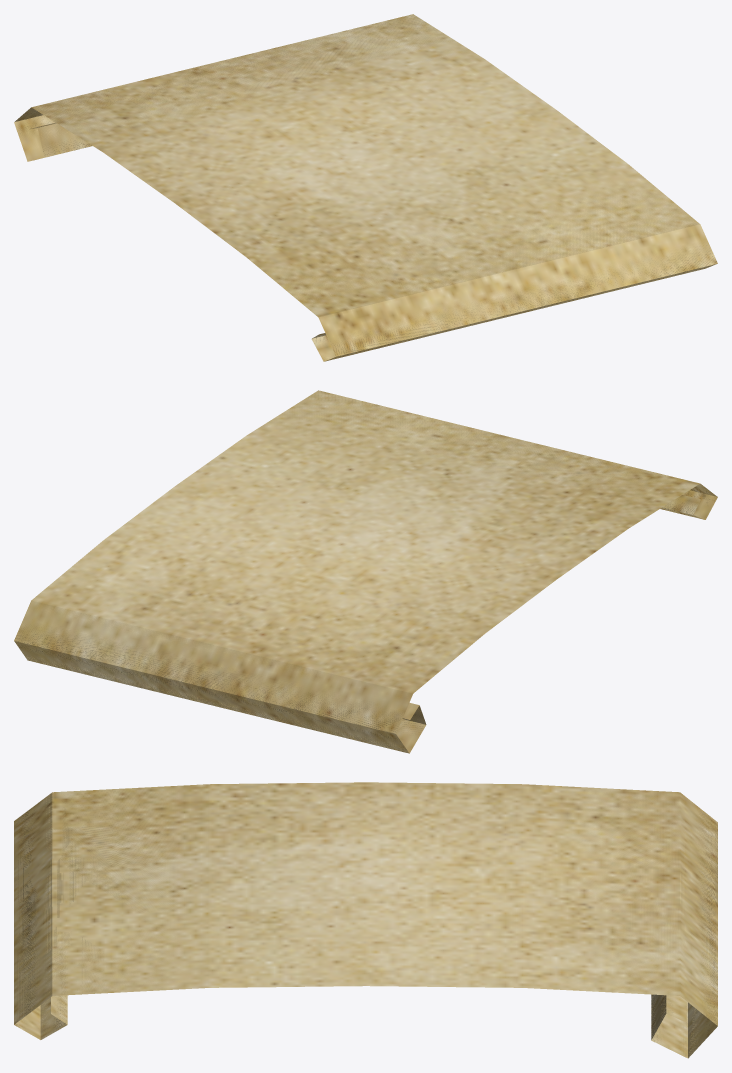
The model's file is parchment.fbx.
The picture shows the model from 3 angles, top to bottom: view 1: azimuth 30°, elevation 25°; view 2: azimuth 150°, elevation 25°; view 3: azimuth 270°, elevation 25°; orthographic projection. The views are drawn at different scales.
Parts seen in each view (by area): view 1: Parchment; view 2: Parchment; view 3: Parchment.
Boxes of the visible parts, bbox=[...] form: Parchment: bbox=[14, 14, 717, 361]; Parchment: bbox=[14, 390, 717, 753]; Parchment: bbox=[14, 782, 717, 1058].
Size of the model in its own units: 29.91 by 4.96 by 43.67.
1 material, 1 textured.
